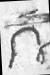V4: (3, 0, 48, 74)
